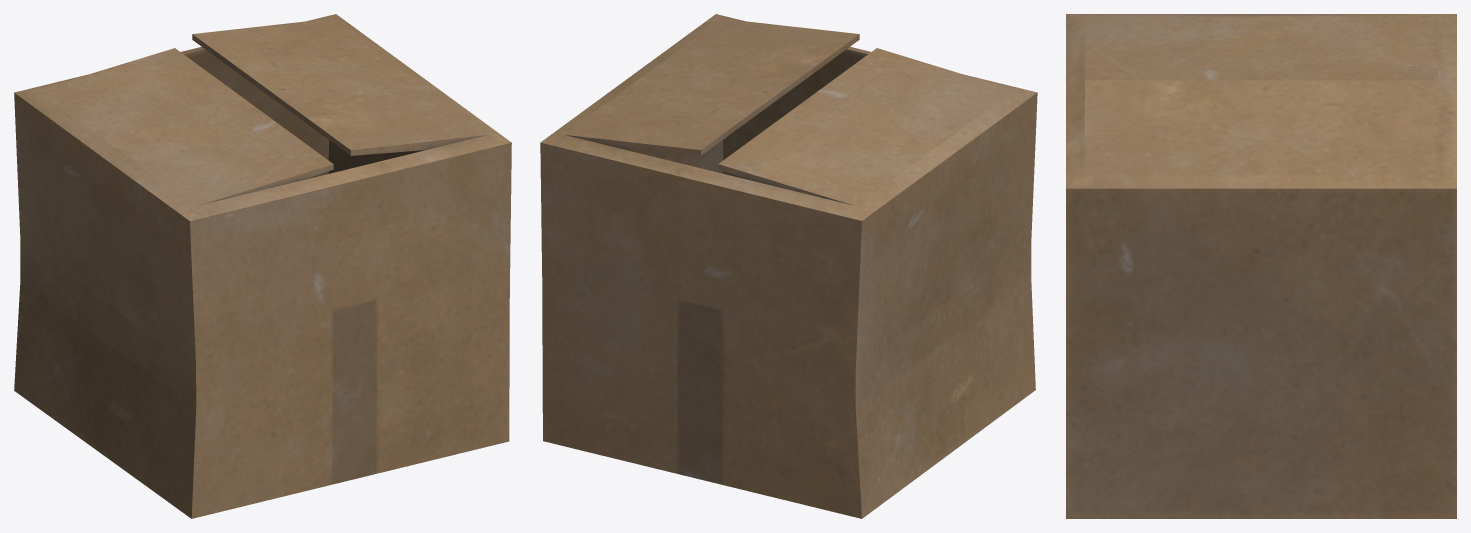
3 renders of one model, left to right at view 1: azimuth 30°, elevation 25°; view 2: azimuth 150°, elevation 25°; view 3: azimuth 270°, elevation 25°, orthographic. The views are drawn at different scales.
Parts seen in each view (by area): view 1: SM_Box_2_LOD0; view 2: SM_Box_2_LOD0; view 3: SM_Box_2_LOD0.
Part boxes in pixels (left/top/right/bottom): SM_Box_2_LOD0: left=14, top=14, right=511, bottom=518; SM_Box_2_LOD0: left=540, top=14, right=1037, bottom=518; SM_Box_2_LOD0: left=1066, top=14, right=1456, bottom=518.
Size of the model in its own units: 23.95 by 22.65 by 22.85.
1 material, 1 textured.
